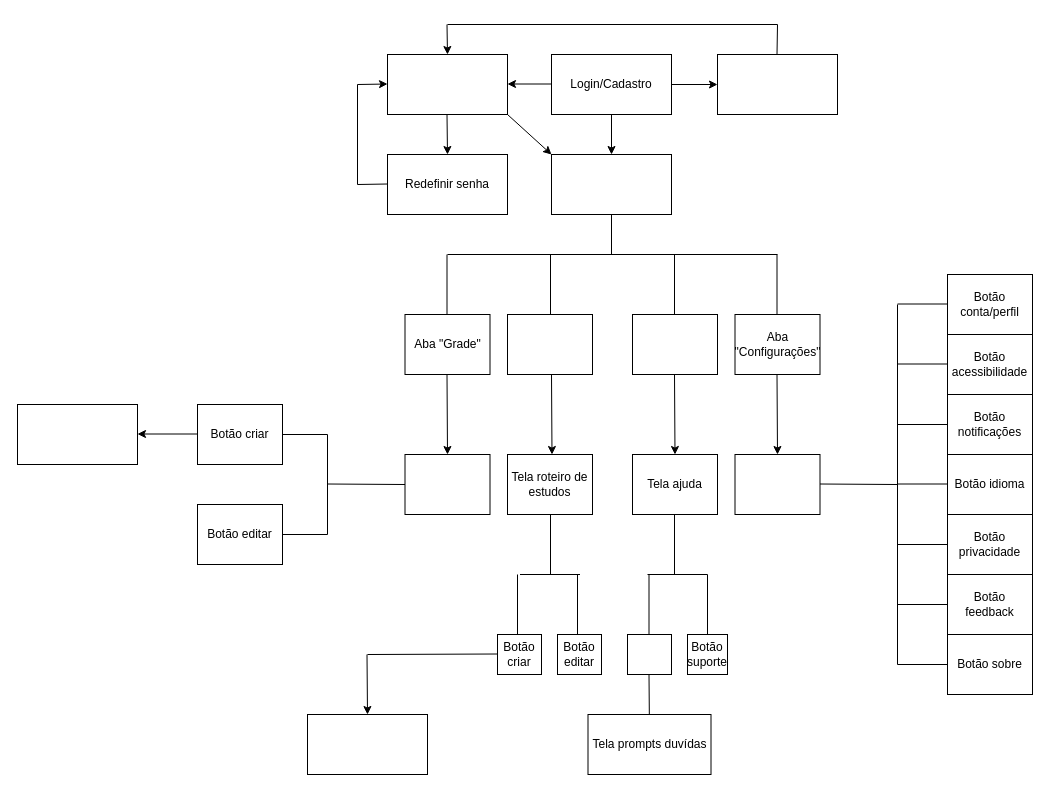
This 1050x792 diagram has some shape labels left out. Here are the shapes that lost their labels. From the top down, the centre of each, then its label:
[447,84]: Login/Esqueci minha senha
[777,84]: Cadastro
[611,184]: Tela incial/abas
[549,344]: Aba "Roteiro de estudos"
[675,344]: Aba "Ajuda"
[77,434]: Tela prompts grade
[447,484]: Tela grade
[777,484]: Tela configurações
[649,654]: Botão duvídas/IA
[367,744]: Tela prompts roteiro de estudo
